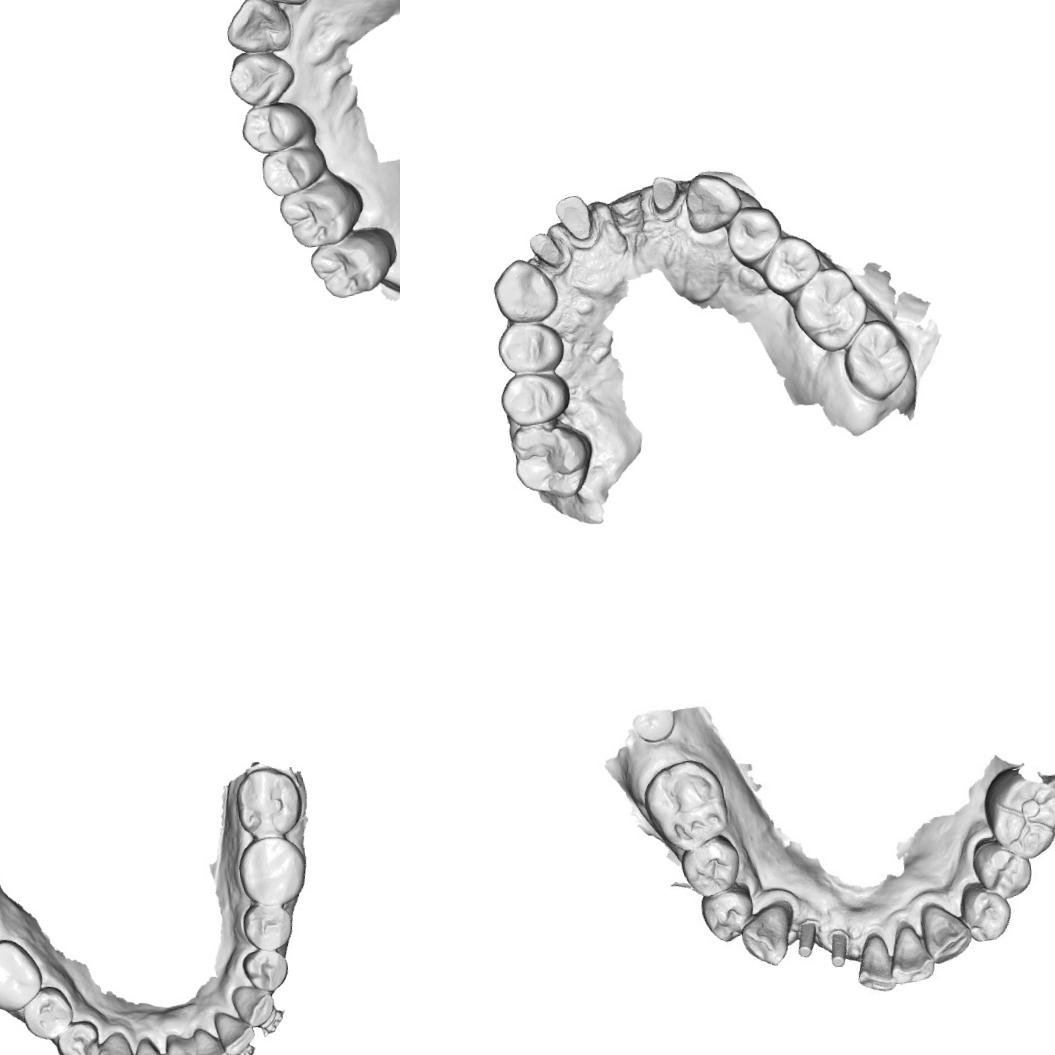abutment: (824, 925, 854, 974), (792, 916, 822, 962)
canine: (488, 253, 562, 328), (678, 167, 747, 238), (224, 46, 298, 108), (916, 899, 978, 968), (735, 899, 796, 968), (229, 980, 279, 1030), (89, 1028, 136, 1055)
crown: (550, 191, 600, 249), (643, 171, 686, 224), (524, 227, 570, 276)
implant: (628, 704, 677, 745)
incisor: (220, 0, 294, 56), (889, 918, 937, 990), (853, 930, 896, 998), (209, 1004, 258, 1055), (190, 1022, 231, 1055), (125, 1034, 168, 1055), (162, 1036, 201, 1055)
molar: (637, 753, 735, 857), (787, 260, 875, 358), (506, 416, 599, 506), (977, 761, 1055, 863), (836, 314, 916, 407), (306, 225, 398, 303), (274, 178, 356, 254), (232, 832, 312, 909), (231, 764, 306, 842), (0, 933, 48, 1017)
premolar: (492, 315, 570, 380), (495, 368, 576, 430), (756, 229, 826, 298), (968, 834, 1035, 902), (680, 833, 746, 902), (722, 201, 787, 269), (696, 884, 762, 948), (258, 144, 331, 199), (956, 880, 1012, 949), (20, 982, 78, 1044), (238, 900, 298, 954), (243, 103, 304, 152), (238, 944, 292, 994), (52, 1017, 104, 1055)
